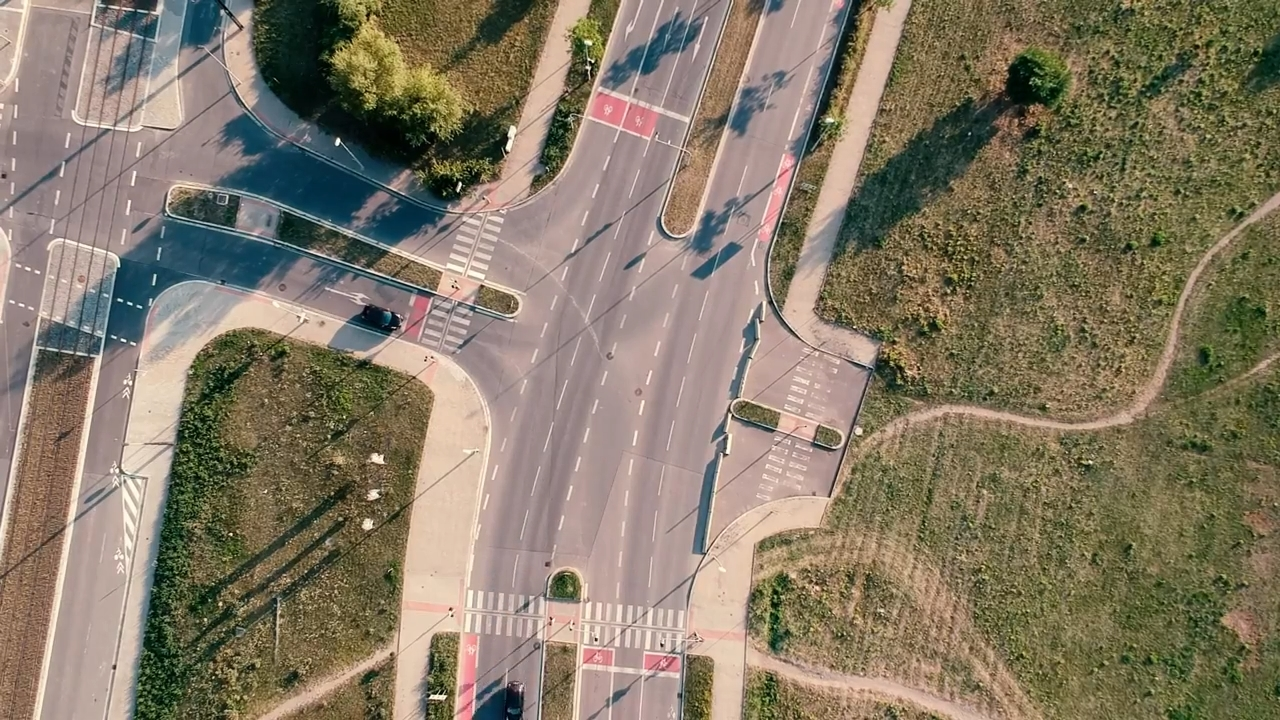car: (359, 303, 404, 334), (506, 679, 526, 720)
